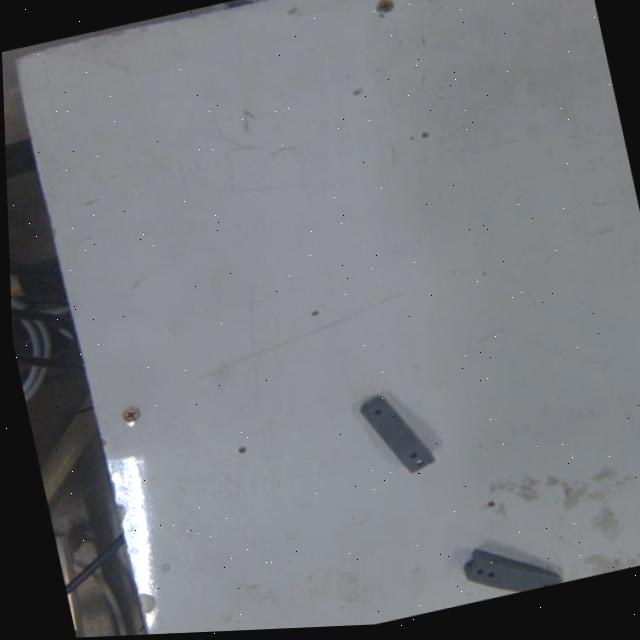grey: (348, 386, 437, 488), (452, 538, 557, 607)
head: (363, 410, 385, 421), (530, 581, 548, 593)
